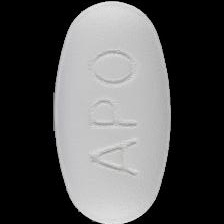68788-9529: (0, 0, 224, 224)
